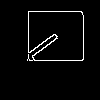L: (23, 25, 77, 75)
